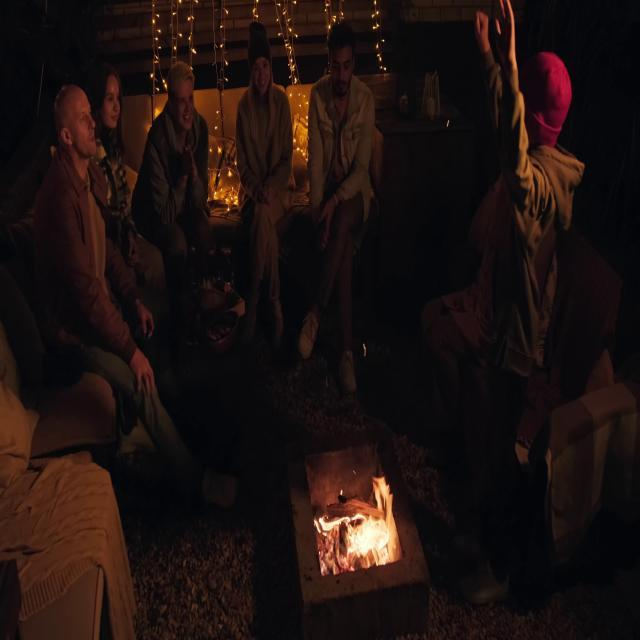Fire: (318, 490, 387, 572)
